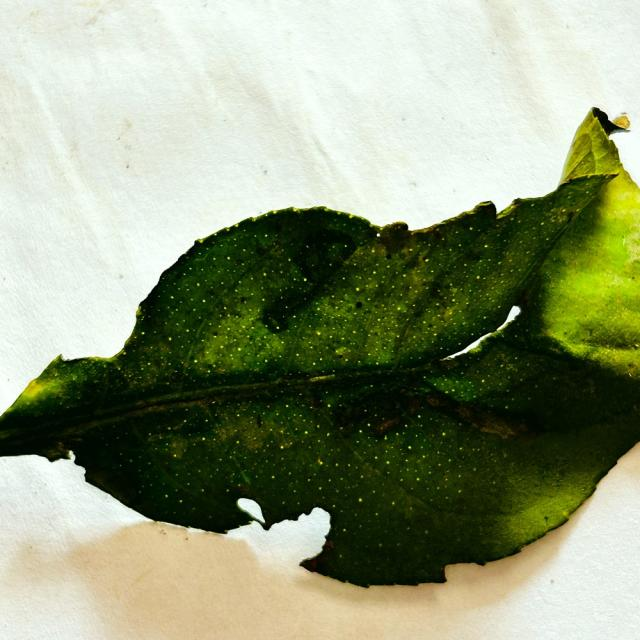Deficiency Leaf: (227, 499, 329, 566), (444, 332, 492, 359)
Lemon: (0, 116, 639, 586), (494, 306, 521, 331)
